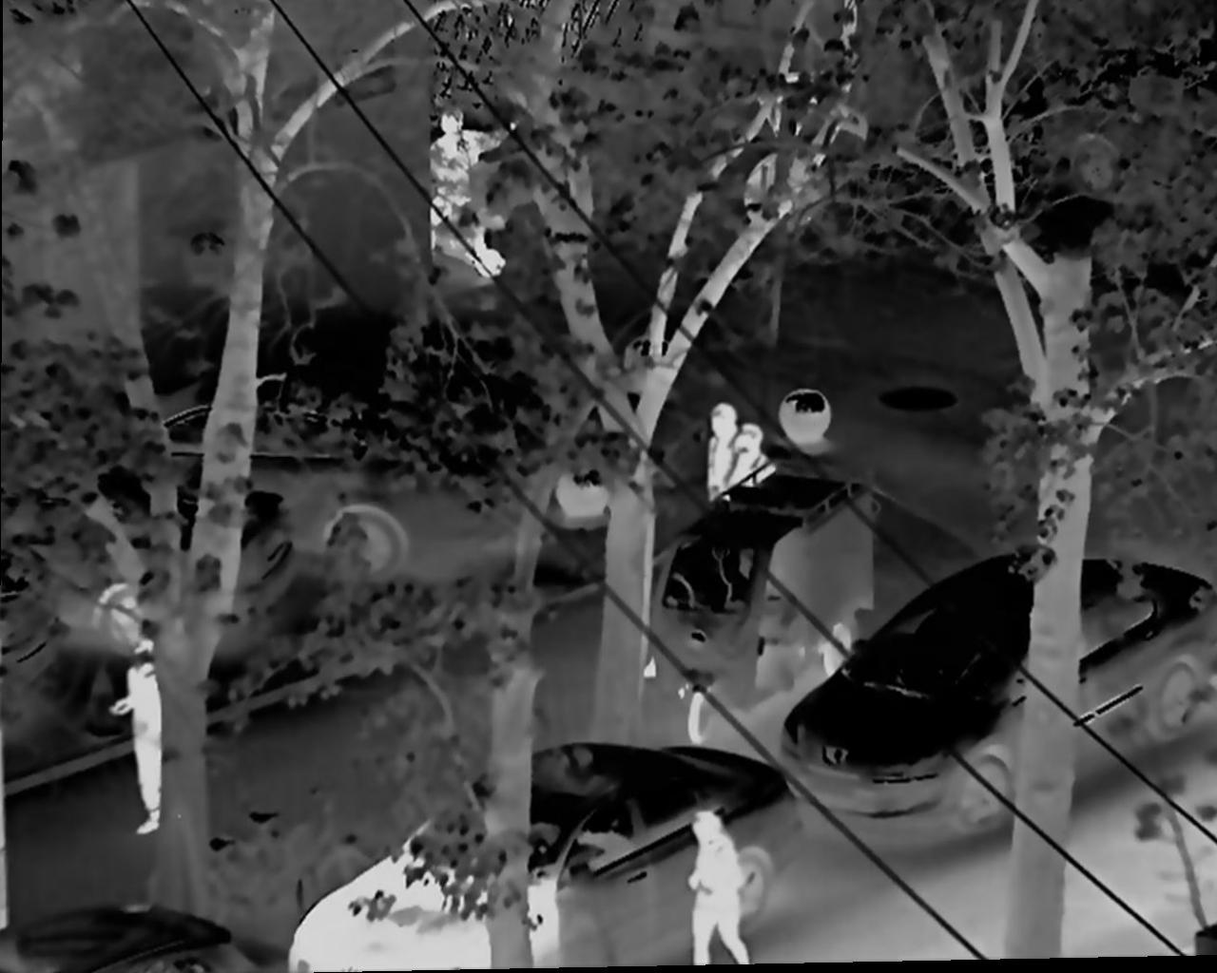person: (105, 636, 189, 843), (424, 97, 497, 277), (685, 809, 760, 963), (697, 388, 742, 517), (730, 417, 774, 489)
